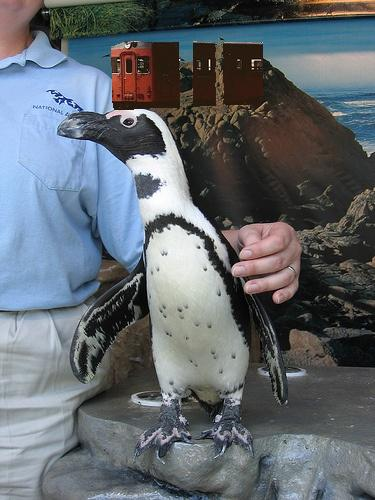tampered: (112, 42, 264, 110)
